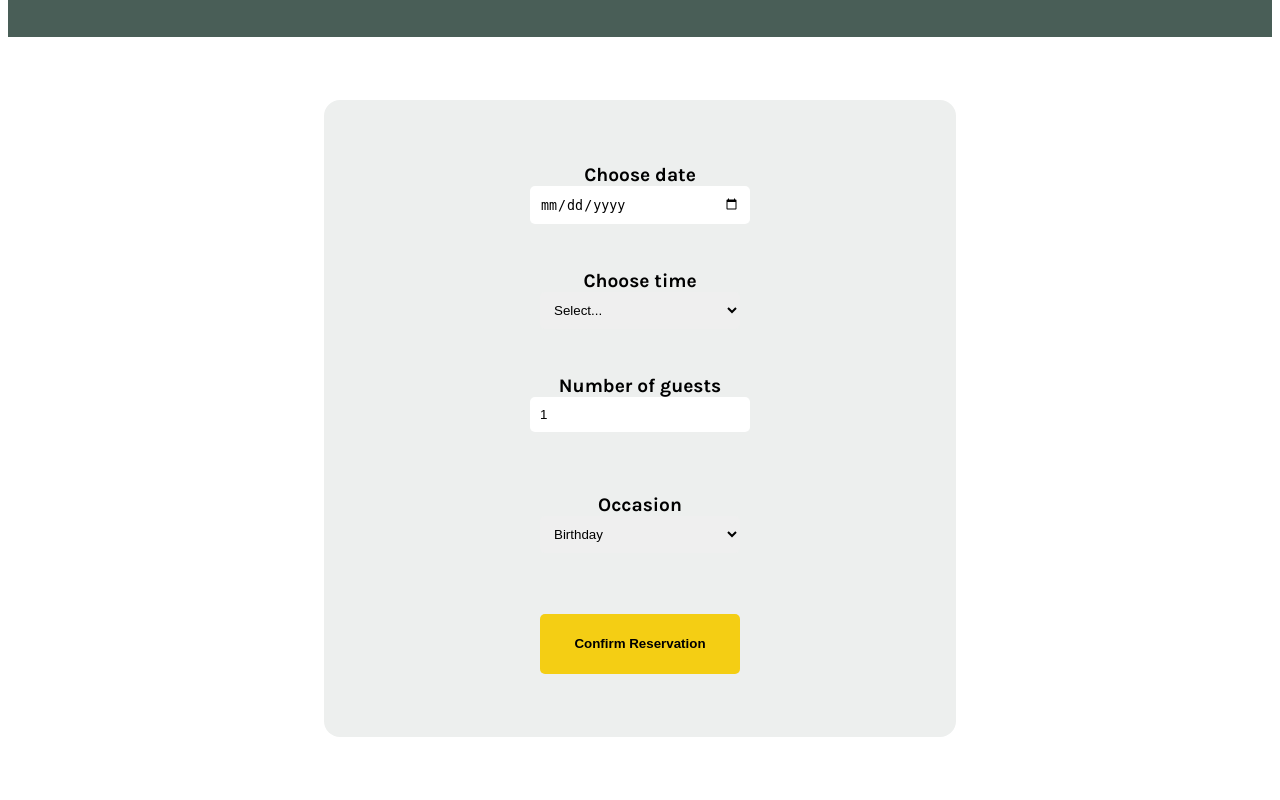
it: Testing the form validations › testing empty booking date
The image size is (1280, 800).
(page scrolled)
What coordinates should you click on to do the following:
click the button
I would click on:
 (640, 644)
Its box is left=540, top=614, right=740, bottom=674.
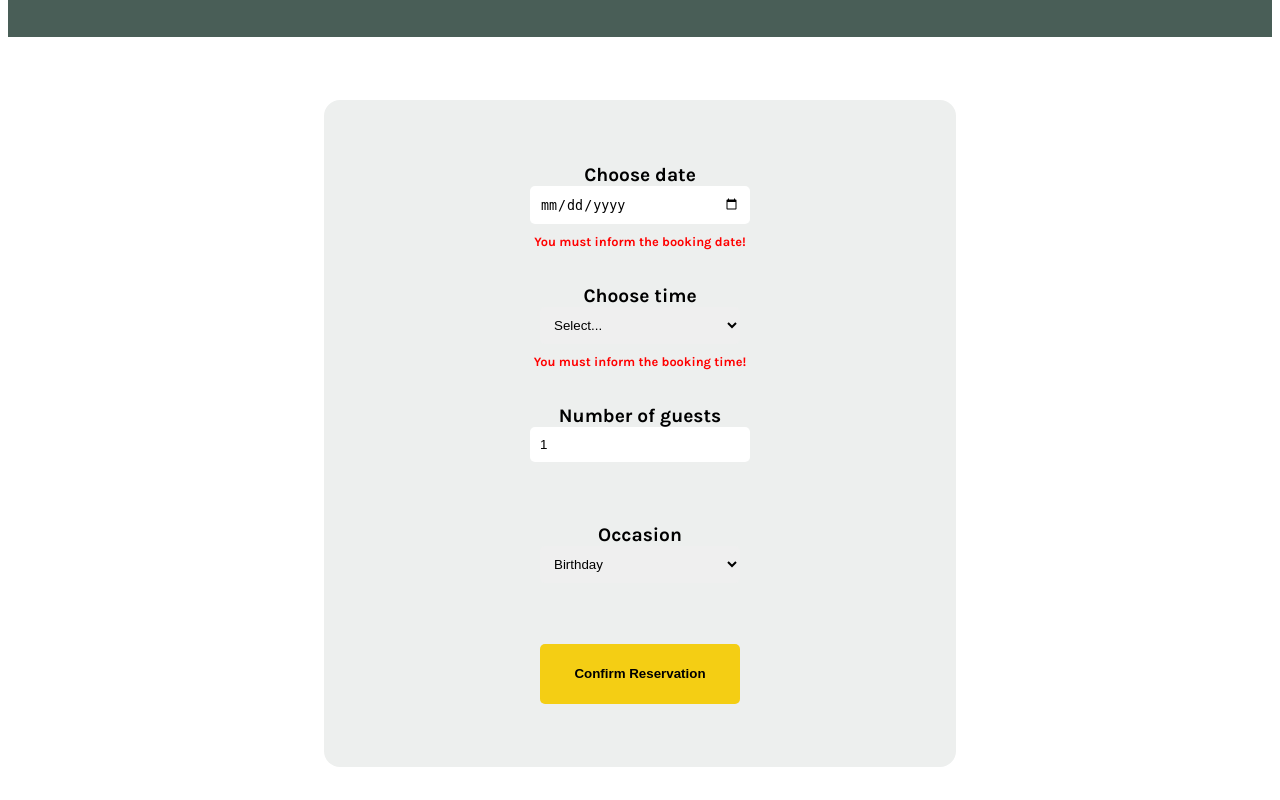
expect the text "You must inform the booking date!" is not empty: met, box left=534, top=234, right=746, bottom=249
